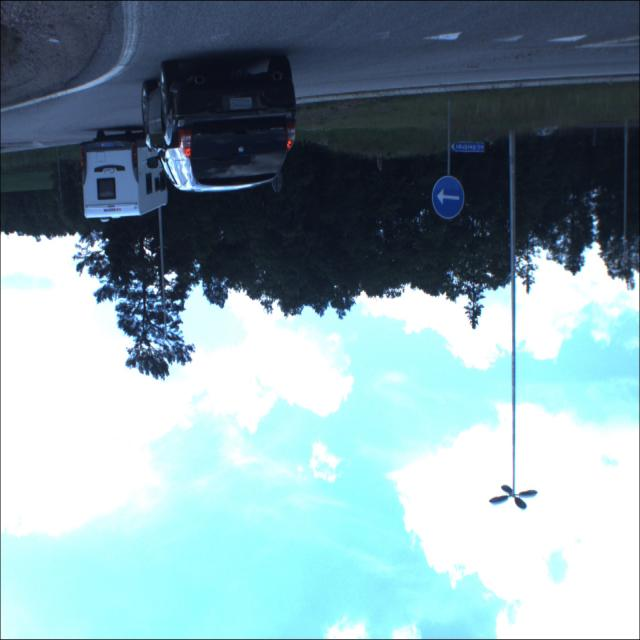Turn Left: (425, 176, 466, 218)
